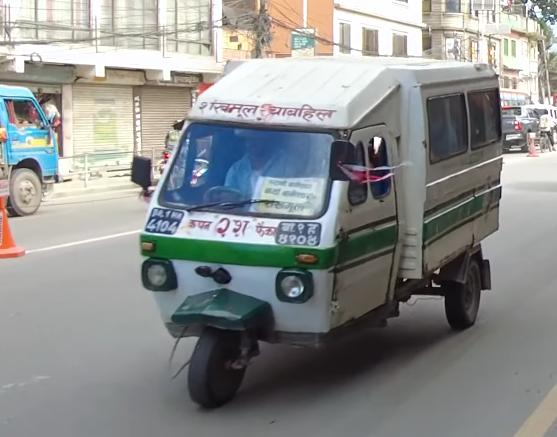mini_truck: (0, 78, 63, 224)
tempo: (128, 48, 506, 413)
